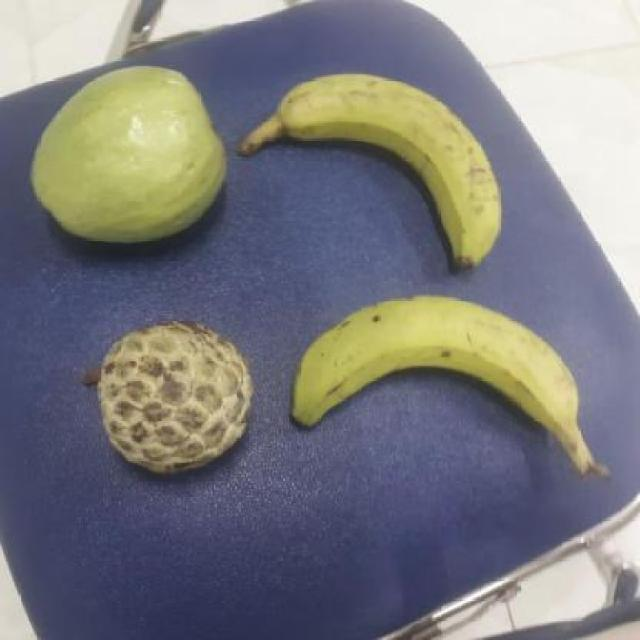banana: (219, 76, 504, 266), (282, 295, 580, 457)
guava: (25, 64, 227, 244)
sugar apple: (83, 320, 259, 477)
